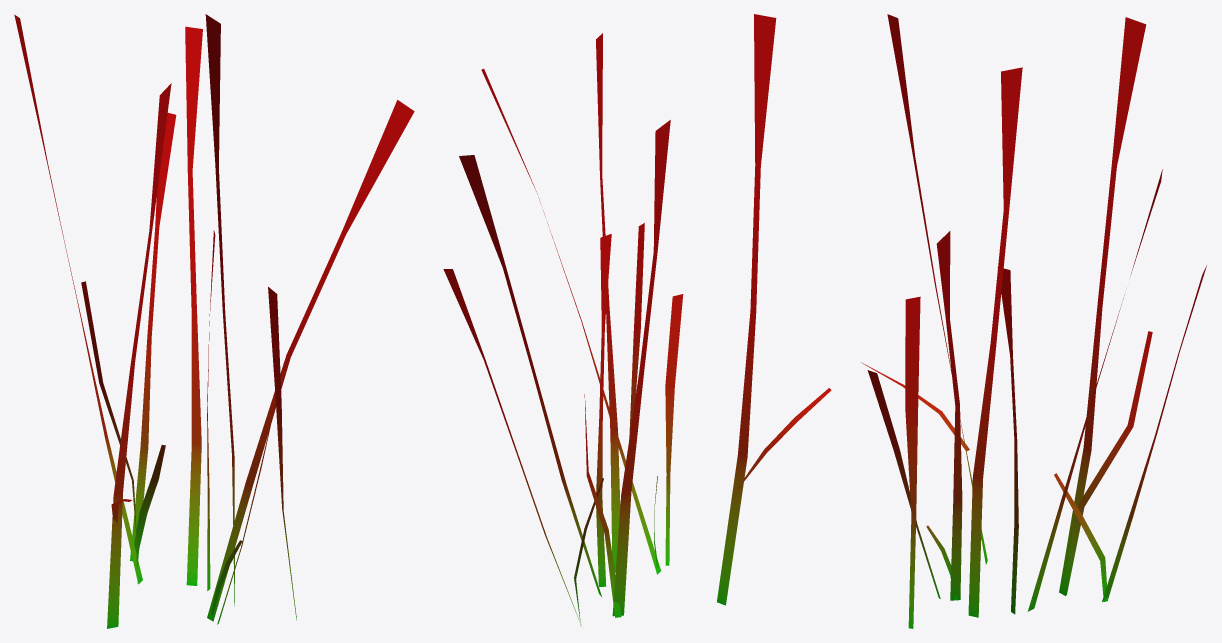
The model's file is Tundra Grass_LOD4_Var14_wk2oaeyqx.fbx.
The picture shows the model from 3 angles, left to right: view 1: azimuth 30°, elevation 25°; view 2: azimuth 150°, elevation 25°; view 3: azimuth 270°, elevation 25°; orthographic projection. The views are drawn at different scales.
Visible parts, largest first — view 1: _wu2x_Var14_LOD4; view 2: _wu2x_Var14_LOD4; view 3: _wu2x_Var14_LOD4.
Boxes of the visible parts, x1,y1,x2,y2 form: _wu2x_Var14_LOD4: (14, 14, 414, 628); _wu2x_Var14_LOD4: (443, 14, 831, 626); _wu2x_Var14_LOD4: (861, 14, 1206, 628).
Size of the model in its own units: 19 by 32.24 by 18.4.
